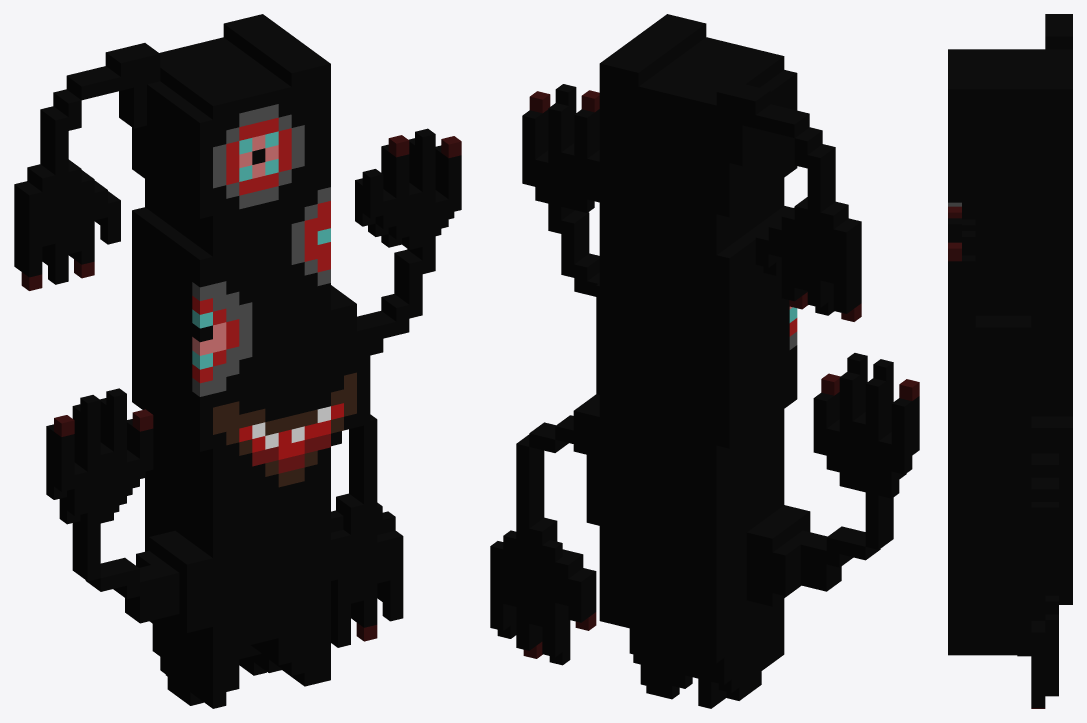
The model's file is monster.fbx.
The picture shows the model from 3 angles, left to right: view 1: azimuth 30°, elevation 25°; view 2: azimuth 150°, elevation 25°; view 3: azimuth 270°, elevation 25°; orthographic projection. The views are drawn at different scales.
Parts seen in each view (by area): view 1: 多边形; view 2: 多边形; view 3: 多边形.
Part boxes in pixels (<box>): 多边形: <box>14,14,461,708</box>; 多边形: <box>490,14,919,708</box>; 多边形: <box>948,14,1072,708</box>.
Size of the model in its own units: 3 by 4.6 by 0.9.
Materials: 1 (1 with a texture image).
